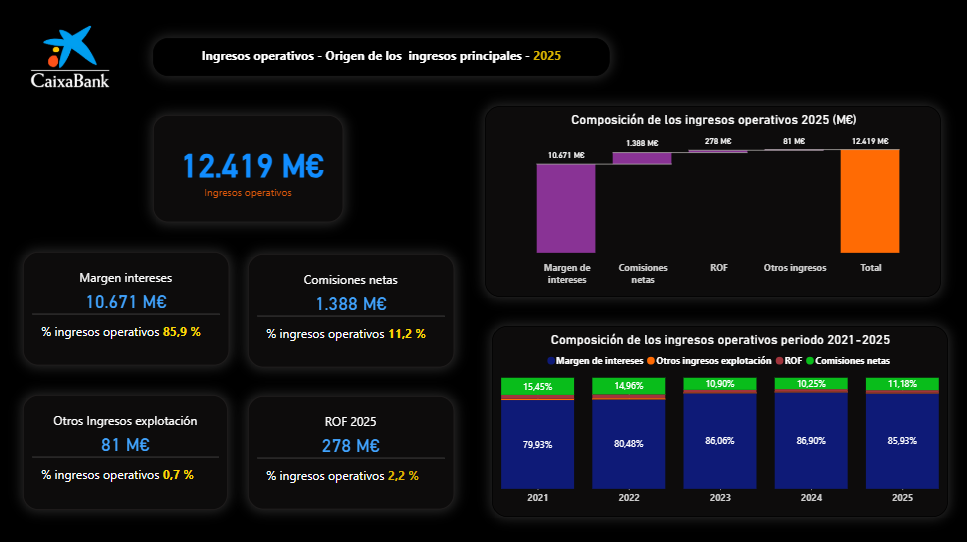

Layout of this report page (visuals, bound fields, positions):
{"tool":"powerbi","page":{"name":"Ingresos operativos","canvas":[1280,720],"ordinal":1},"visuals":[{"type":"image","box":[4.7,29.7,179.5,95.2],"z":0},{"type":"textbox","box":[196.5,51.5,536,59.1],"z":1000},{"type":"card","fields":{"Values":["Medidas.FORMAT Ingresos operativos"]},"box":[812.6,110.6,299.5,169.8],"z":2000},{"type":"waterfallChart","title":"Composición de los ingresos operativos 2025 (M€)","fields":{"Y":["Medidas.Valor cascada"],"Category":["Conceptos ingresos.Concepto"]},"box":[39.7,140.4,601.1,254.8],"z":3000},{"type":"cardVisual","fields":{"Data":["Medidas.FORMAT Margen intereses"]},"box":[686.7,331.9,249.9,139.3],"z":4000},{"type":"cardVisual","fields":{"Data":["Medidas.FORMAT Otros Ingresos explotacion"]},"box":[686.7,530.3,249.9,139.3],"z":5000},{"type":"cardVisual","fields":{"Data":["Medidas.FORMAT ROF 2025"]},"box":[986.2,331.9,249.9,139.3],"z":6000},{"type":"cardVisual","fields":{"Data":["Medidas.FORMAT Comisiones netas 2025"]},"box":[984.3,528.4,249.9,139.3],"z":7000},{"type":"hundredPercentStackedColumnChart","title":"Composición de los ingresos operativos periodo 2021-2025 ","fields":{"Category":["Calendario.Año"],"Y":["Sum(Ganancias Perdidas 2021 2025-CaixaBank.Margen de intereses)","Sum(CaixaBank 2007 2025.OTROS_INGRESOS_EXPLOTACION_M€)","Sum(CaixaBank 2007 2025.RESULTADO_SEGUROS_ROF_M€)","Sum(CaixaBank 2007 2025.COMISIONES_NETAS_M€)"]},"box":[39.7,427.2,601.1,254.8],"z":8000}]}

Visuals, with their boxes in screenshot pixels (x1, y1, x2, y2), scaled from the page's 1280x720 canvas onto the 967x542 screenshot:
image: (4,22,139,94)
textbox: (148,39,553,83)
card - Medidas.FORMAT Ingresos operativos: (614,83,840,211)
"Composición de los ingresos operativos 2025 (M€)" waterfallChart: (30,106,484,297)
cardVisual - Medidas.FORMAT Margen intereses: (519,250,708,355)
cardVisual - Medidas.FORMAT Otros Ingresos explotacion: (519,399,708,504)
cardVisual - Medidas.FORMAT ROF 2025: (745,250,934,355)
cardVisual - Medidas.FORMAT Comisiones netas 2025: (744,398,932,503)
"Composición de los ingresos operativos periodo 2021-2025 " hundredPercentStackedColumnChart: (30,322,484,513)
